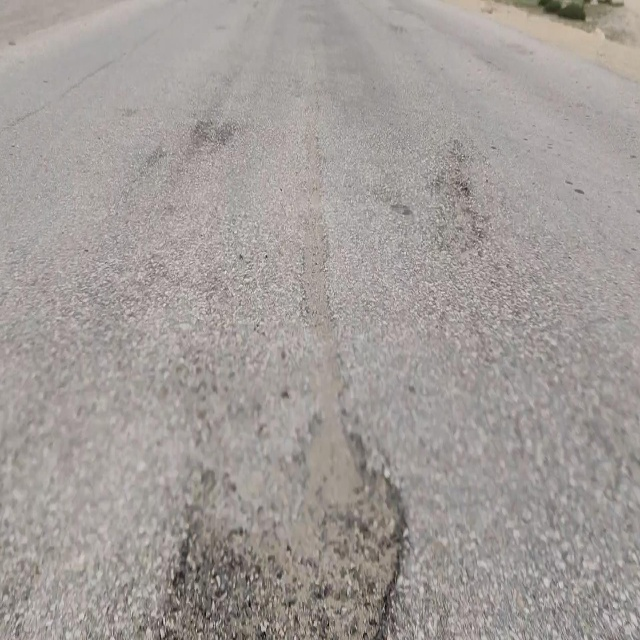pothole: (152, 389, 411, 640)
